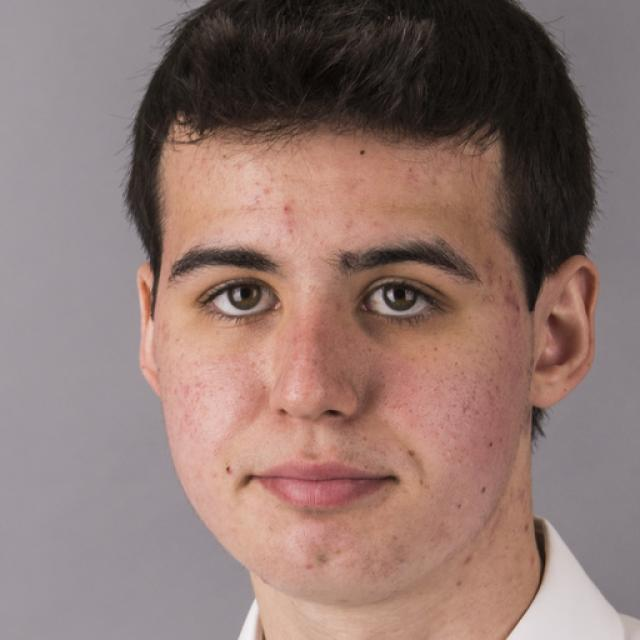Acne: (269, 199, 297, 220)
